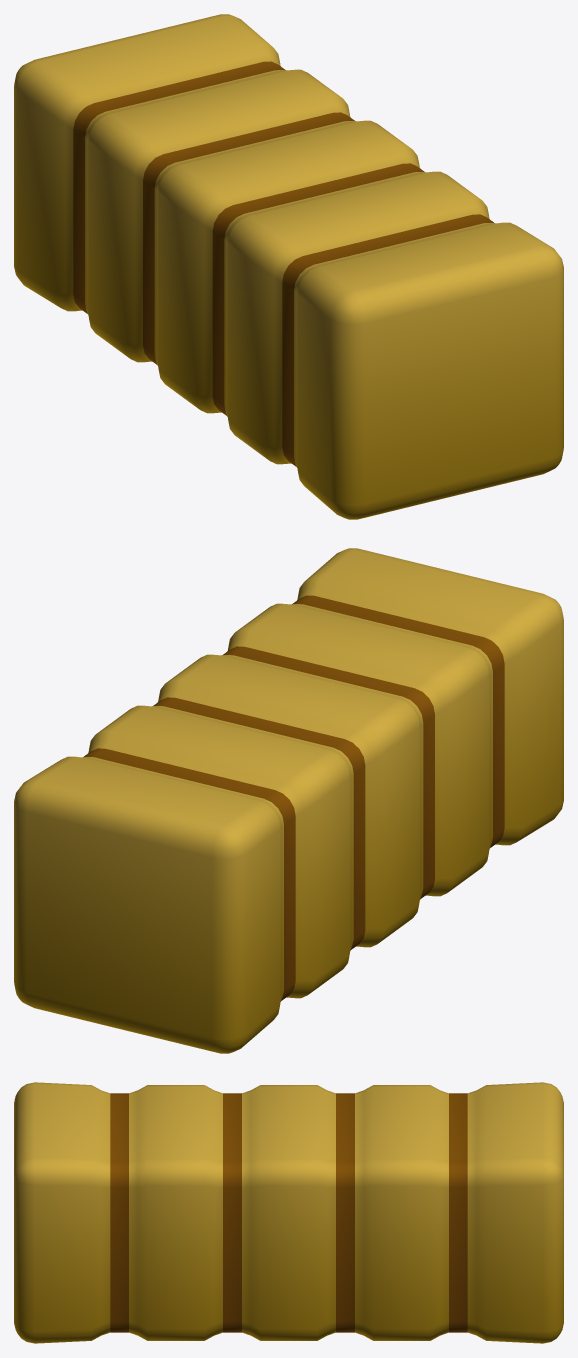
File: HayBaleSquare.fbx
3 renders of one model, top to bottom at view 1: azimuth 30°, elevation 25°; view 2: azimuth 150°, elevation 25°; view 3: azimuth 270°, elevation 25°, orthographic. The views are drawn at different scales.
Visible parts, largest first — view 1: HayBale.003; view 2: HayBale.003; view 3: HayBale.003.
Part boxes in pixels (bbox=[...]): HayBale.003: bbox=[14, 14, 563, 519]; HayBale.003: bbox=[14, 548, 563, 1053]; HayBale.003: bbox=[14, 1082, 563, 1343].
Bounding box in the file's own units: 0.2034 × 0.1915 × 0.5189.
